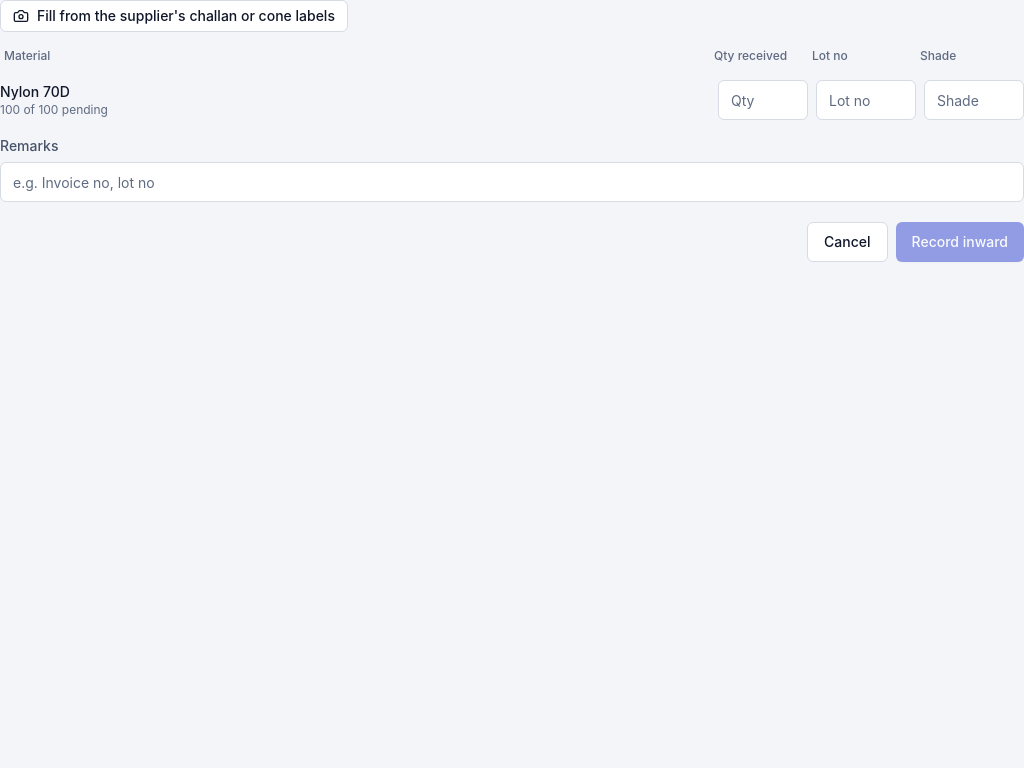
Test case: recording an inward that exceeds the order › holds the dialog shut until the required reason is given
Type "130" into the number field named "Quantity received for Nylon 70D". click: [763, 100]
box: [718,80,808,120]
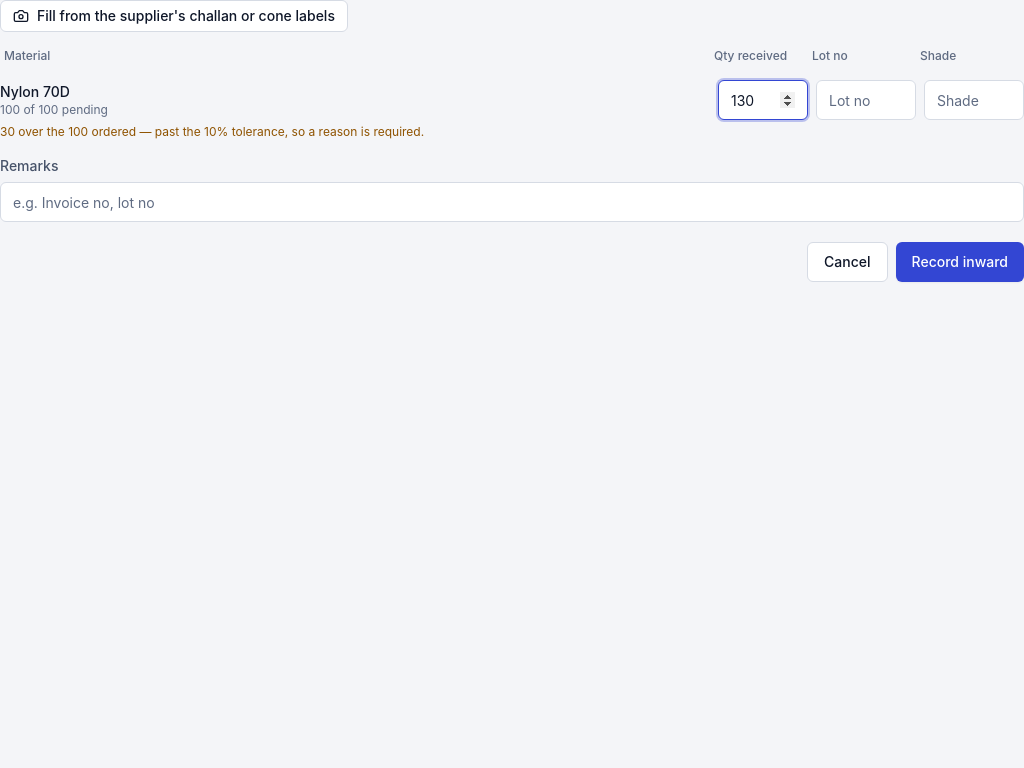
Click the button "Record inward". click: [960, 262]
box: [896,242,1023,282]
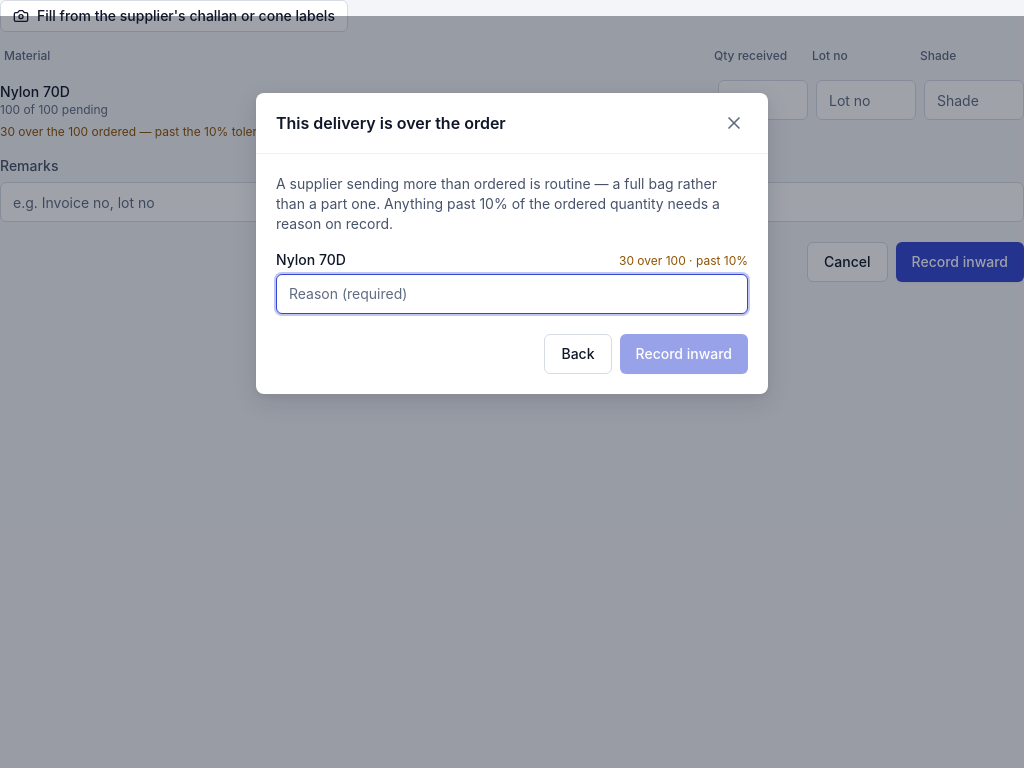
Check: the button "Record inward" is disabled, box [620,334,748,374]
Type "Supplier made up an earlier shortfall" into the field named "Reason for the excess on Nylon 70D". click: [512, 294]
box: [276,274,748,314]
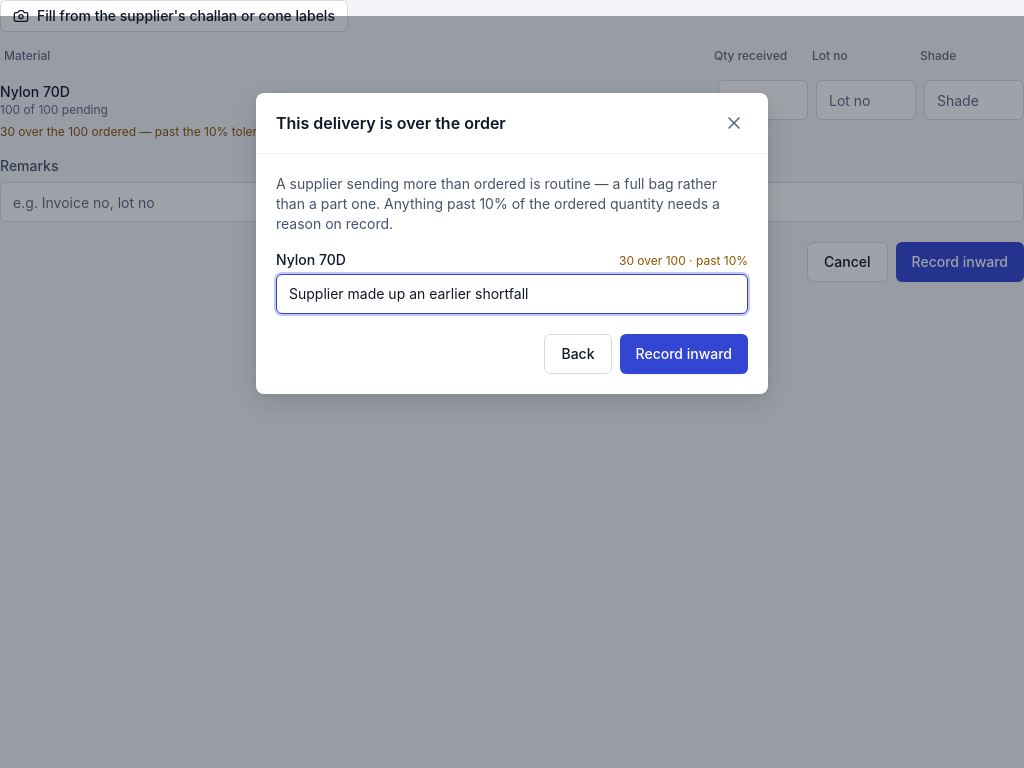
Check: the button "Record inward" is enabled, box [620,334,748,374]
